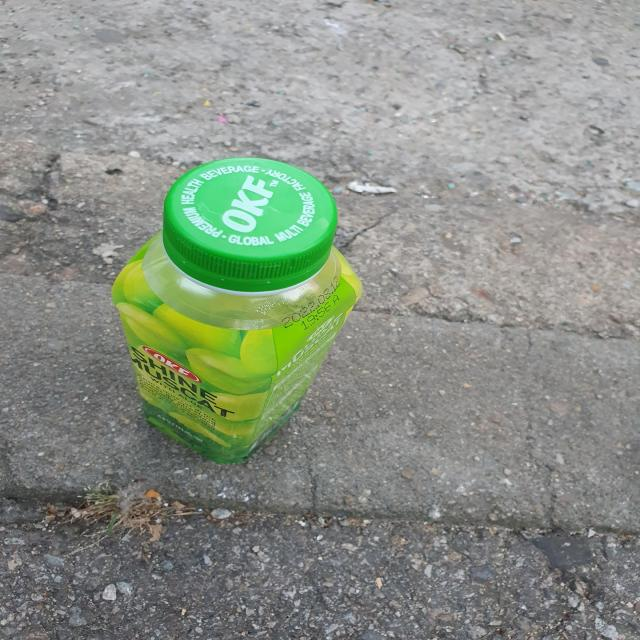plastic: (111, 157, 362, 463)
